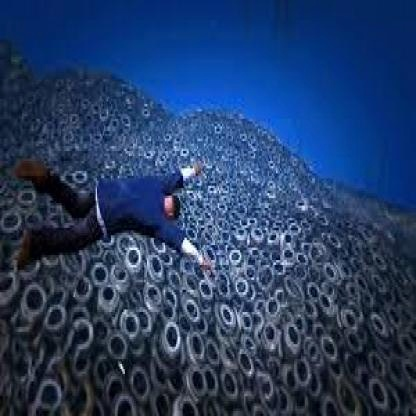tire: (188, 366, 218, 414), (122, 302, 146, 349), (26, 288, 50, 330), (184, 297, 208, 337), (162, 317, 183, 361), (94, 275, 115, 319), (125, 248, 144, 282)
